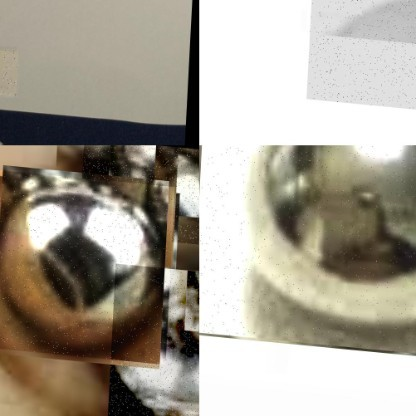ironball: (199, 145, 415, 347), (0, 167, 174, 358), (110, 258, 199, 415), (309, 0, 415, 105), (79, 145, 199, 237), (0, 41, 20, 92)
